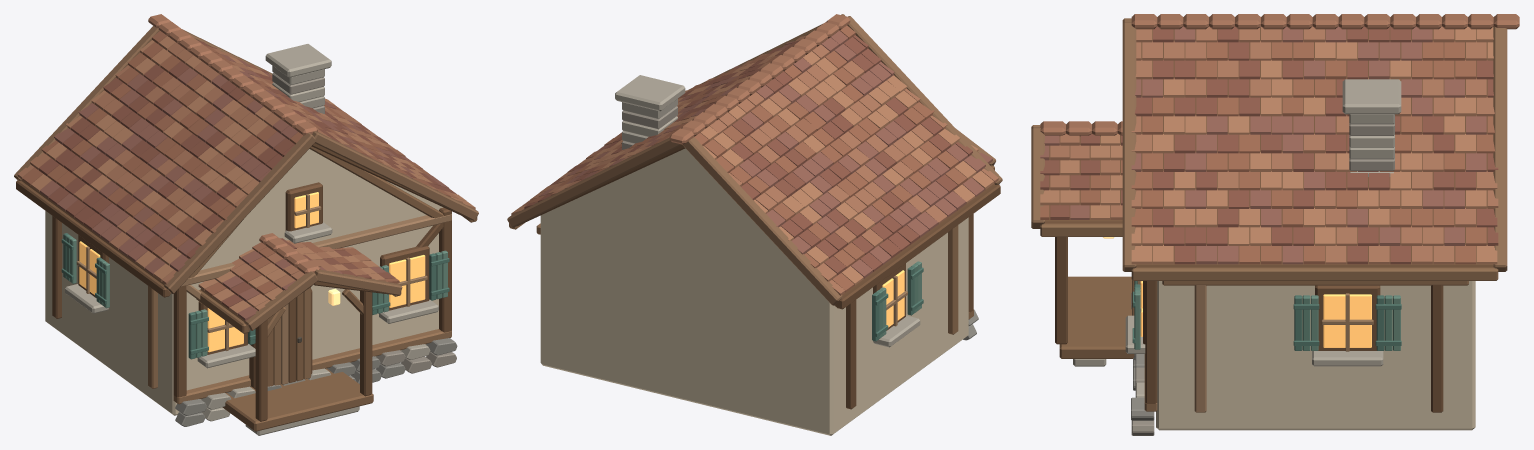
The model's file is porch.glb.
The picture shows the model from 3 angles, left to right: view 1: azimuth 30°, elevation 25°; view 2: azimuth 150°, elevation 25°; view 3: azimuth 270°, elevation 25°; orthographic projection. The views are drawn at different scales.
Parts seen in each view (by area): view 1: porch Warm limewash 01, porch Fired clay 03, porch Oiled oak 01, porch Fired clay 04, porch Fired clay 05, porch Fired clay 01, porch Fired clay 02, porch Oak end grain 01, porch Oiled oak 02, porch Warm slate 03, porch Oiled oak 03, porch Honey glass 01 (+8 smaller); view 2: porch Warm limewash 01, porch Fired clay 03, porch Fired clay 04, porch Fired clay 01, porch Fired clay 02, porch Fired clay 05, porch Oak end grain 01, porch Oiled oak 01, porch Warm slate 03, porch Oiled oak 03, porch Weathered sage paint 01, porch Warm slate 02 (+2 smaller); view 3: porch Warm limewash 01, porch Fired clay 03, porch Fired clay 01, porch Fired clay 05, porch Fired clay 02, porch Fired clay 04, porch Oiled oak 01, porch Oiled oak 03, porch Oak end grain 01, porch Oiled oak 02, porch Warm slate 03, porch Honey glass 01 (+8 smaller).
Boxes of the visible parts, x1=… form: porch Warm limewash 01: x1=45, y1=149, x2=443, y2=415; porch Fired clay 03: x1=17, y1=14, x2=458, y2=289; porch Oiled oak 01: x1=16, y1=143, x2=469, y2=421; porch Fired clay 04: x1=40, y1=54, x2=449, y2=320; porch Fired clay 05: x1=31, y1=36, x2=475, y2=314; porch Fired clay 01: x1=38, y1=40, x2=456, y2=308; porch Fired clay 02: x1=22, y1=31, x2=450, y2=296; porch Oak end grain 01: x1=14, y1=26, x2=478, y2=330; porch Oiled oak 02: x1=170, y1=146, x2=443, y2=431; porch Warm slate 03: x1=65, y1=44, x2=438, y2=435; porch Oiled oak 03: x1=148, y1=216, x2=477, y2=404; porch Honey glass 01: x1=79, y1=192, x2=425, y2=352; porch Warm limewash 01: x1=540, y1=148, x2=968, y2=435; porch Fired clay 03: x1=530, y1=14, x2=998, y2=295; porch Fired clay 04: x1=539, y1=30, x2=992, y2=278; porch Fired clay 01: x1=524, y1=35, x2=972, y2=275; porch Fired clay 02: x1=521, y1=25, x2=967, y2=292; porch Fired clay 05: x1=511, y1=50, x2=993, y2=285; porch Oak end grain 01: x1=507, y1=14, x2=1002, y2=305; porch Oiled oak 01: x1=517, y1=145, x2=1000, y2=409; porch Warm slate 03: x1=615, y1=75, x2=920, y2=347; porch Oiled oak 03: x1=509, y1=223, x2=973, y2=334; porch Weathered sage paint 01: x1=872, y1=266, x2=923, y2=341; porch Warm slate 02: x1=622, y1=98, x2=677, y2=143; porch Warm limewash 01: x1=1156, y1=281, x2=1475, y2=430; porch Fired clay 03: x1=1040, y1=14, x2=1519, y2=264; porch Fired clay 01: x1=1040, y1=26, x2=1498, y2=264; porch Fired clay 05: x1=1040, y1=26, x2=1497, y2=264; porch Fired clay 02: x1=1040, y1=41, x2=1494, y2=264; porch Fired clay 04: x1=1040, y1=26, x2=1486, y2=264; porch Oiled oak 01: x1=1045, y1=26, x2=1493, y2=412; porch Oiled oak 03: x1=1040, y1=223, x2=1498, y2=411; porch Oak end grain 01: x1=1031, y1=18, x2=1507, y2=271; porch Oiled oak 02: x1=1059, y1=276, x2=1134, y2=358; porch Warm slate 03: x1=1073, y1=79, x2=1401, y2=397; porch Honey glass 01: x1=1140, y1=281, x2=1371, y2=347.
Bounding box in the file's own units: 5.89 × 4.86 × 6.42.
